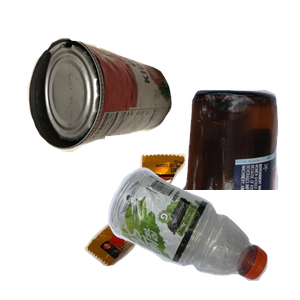glass: (87, 87, 300, 267)
metal: (25, 35, 189, 180)
plastic: (105, 165, 300, 300)
trash: (82, 151, 260, 300)
